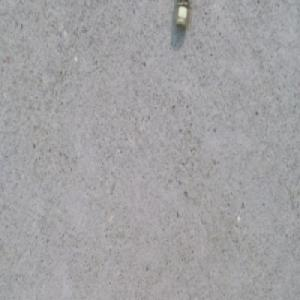BoltNutSet: (172, 0, 194, 28)
